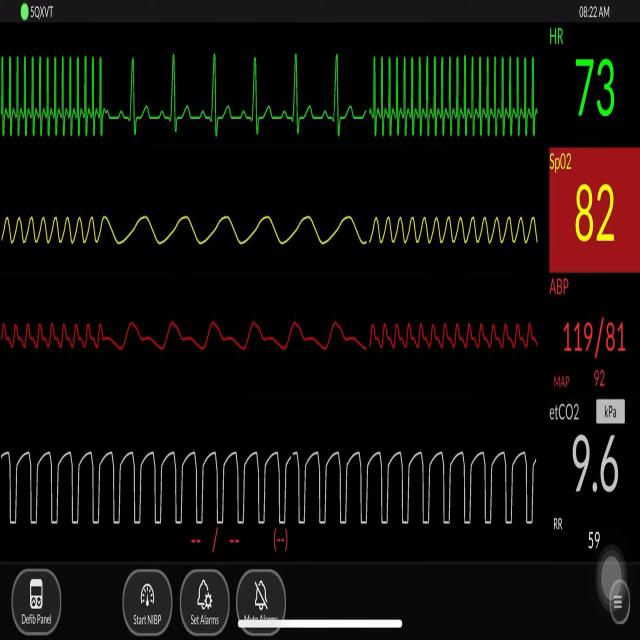danger: (363, 36, 542, 155), (3, 44, 114, 152)
